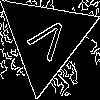V: (20, 13, 72, 70)
